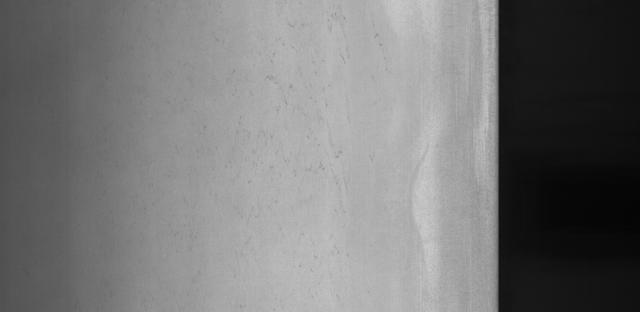silk_spot: (232, 7, 376, 229)
